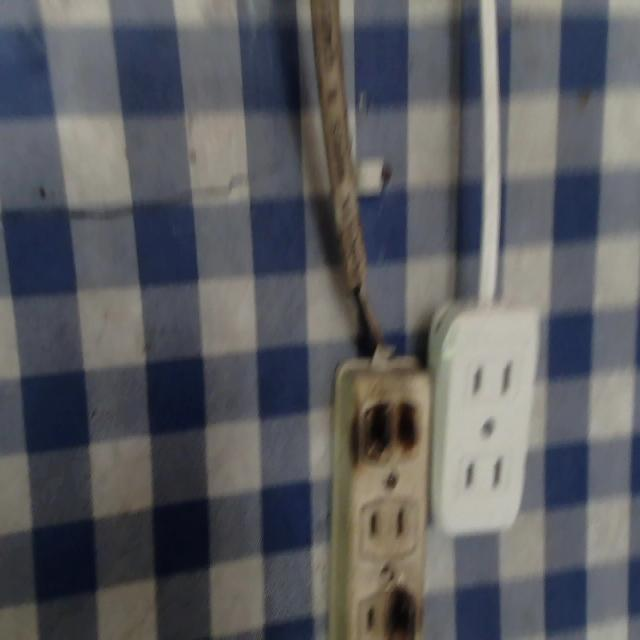-: (353, 395, 423, 460), (385, 583, 420, 637)
